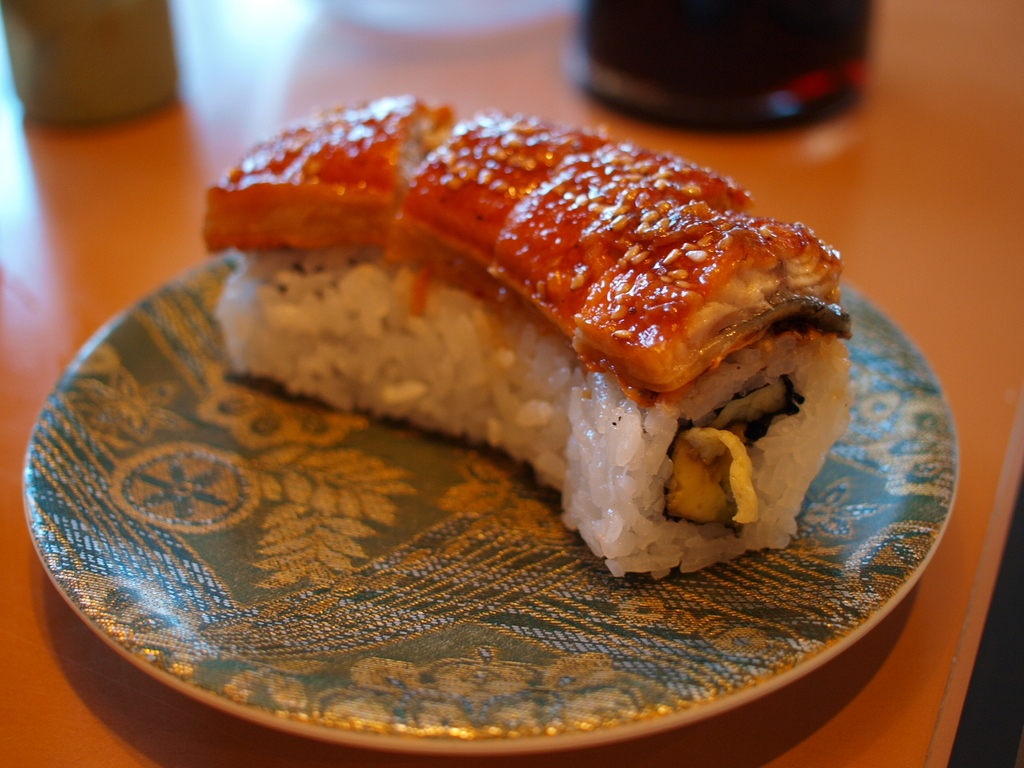sushi: (126, 106, 849, 622)
